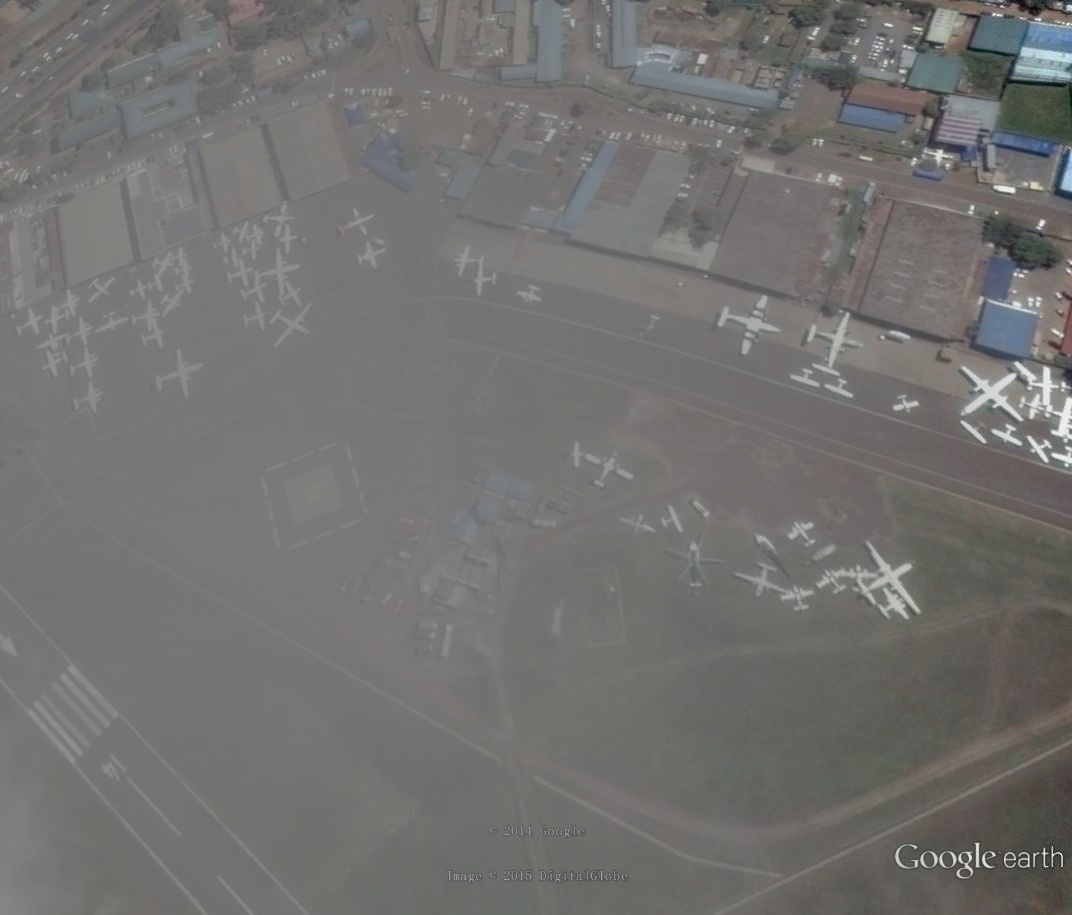aircraft: (853, 540, 926, 619), (957, 361, 1038, 426), (714, 292, 781, 360), (804, 310, 864, 372), (151, 347, 208, 403), (251, 245, 302, 300), (730, 560, 793, 601), (267, 307, 317, 352), (583, 449, 636, 491), (1024, 362, 1069, 409), (334, 204, 379, 241), (836, 562, 882, 597), (874, 585, 913, 623), (260, 199, 295, 241), (352, 239, 389, 278), (466, 258, 499, 300), (71, 380, 106, 418), (67, 345, 101, 382), (779, 583, 818, 615), (452, 244, 488, 278), (1042, 397, 1071, 437), (11, 306, 46, 339), (989, 422, 1028, 451), (129, 299, 161, 334), (1024, 432, 1054, 469), (618, 514, 659, 541), (224, 259, 257, 292), (657, 504, 689, 537), (239, 299, 271, 332), (814, 568, 849, 598), (63, 318, 99, 347), (51, 289, 84, 320), (140, 318, 169, 353), (821, 375, 857, 403), (93, 310, 133, 335), (275, 280, 306, 312), (42, 349, 73, 381), (1017, 393, 1050, 423), (958, 417, 992, 446), (271, 224, 301, 256), (238, 276, 268, 308), (562, 437, 589, 471), (787, 520, 818, 549), (86, 276, 118, 304), (787, 366, 822, 391), (33, 331, 72, 353), (158, 291, 187, 320), (891, 393, 924, 417), (149, 251, 176, 280), (514, 283, 546, 305), (1049, 445, 1072, 472), (44, 305, 64, 335), (211, 230, 234, 256), (240, 239, 264, 262), (172, 276, 197, 298), (244, 223, 265, 249), (220, 251, 247, 270), (230, 222, 252, 245), (143, 272, 167, 293), (129, 279, 150, 303), (169, 245, 189, 270), (172, 259, 194, 280), (1049, 424, 1071, 442)
